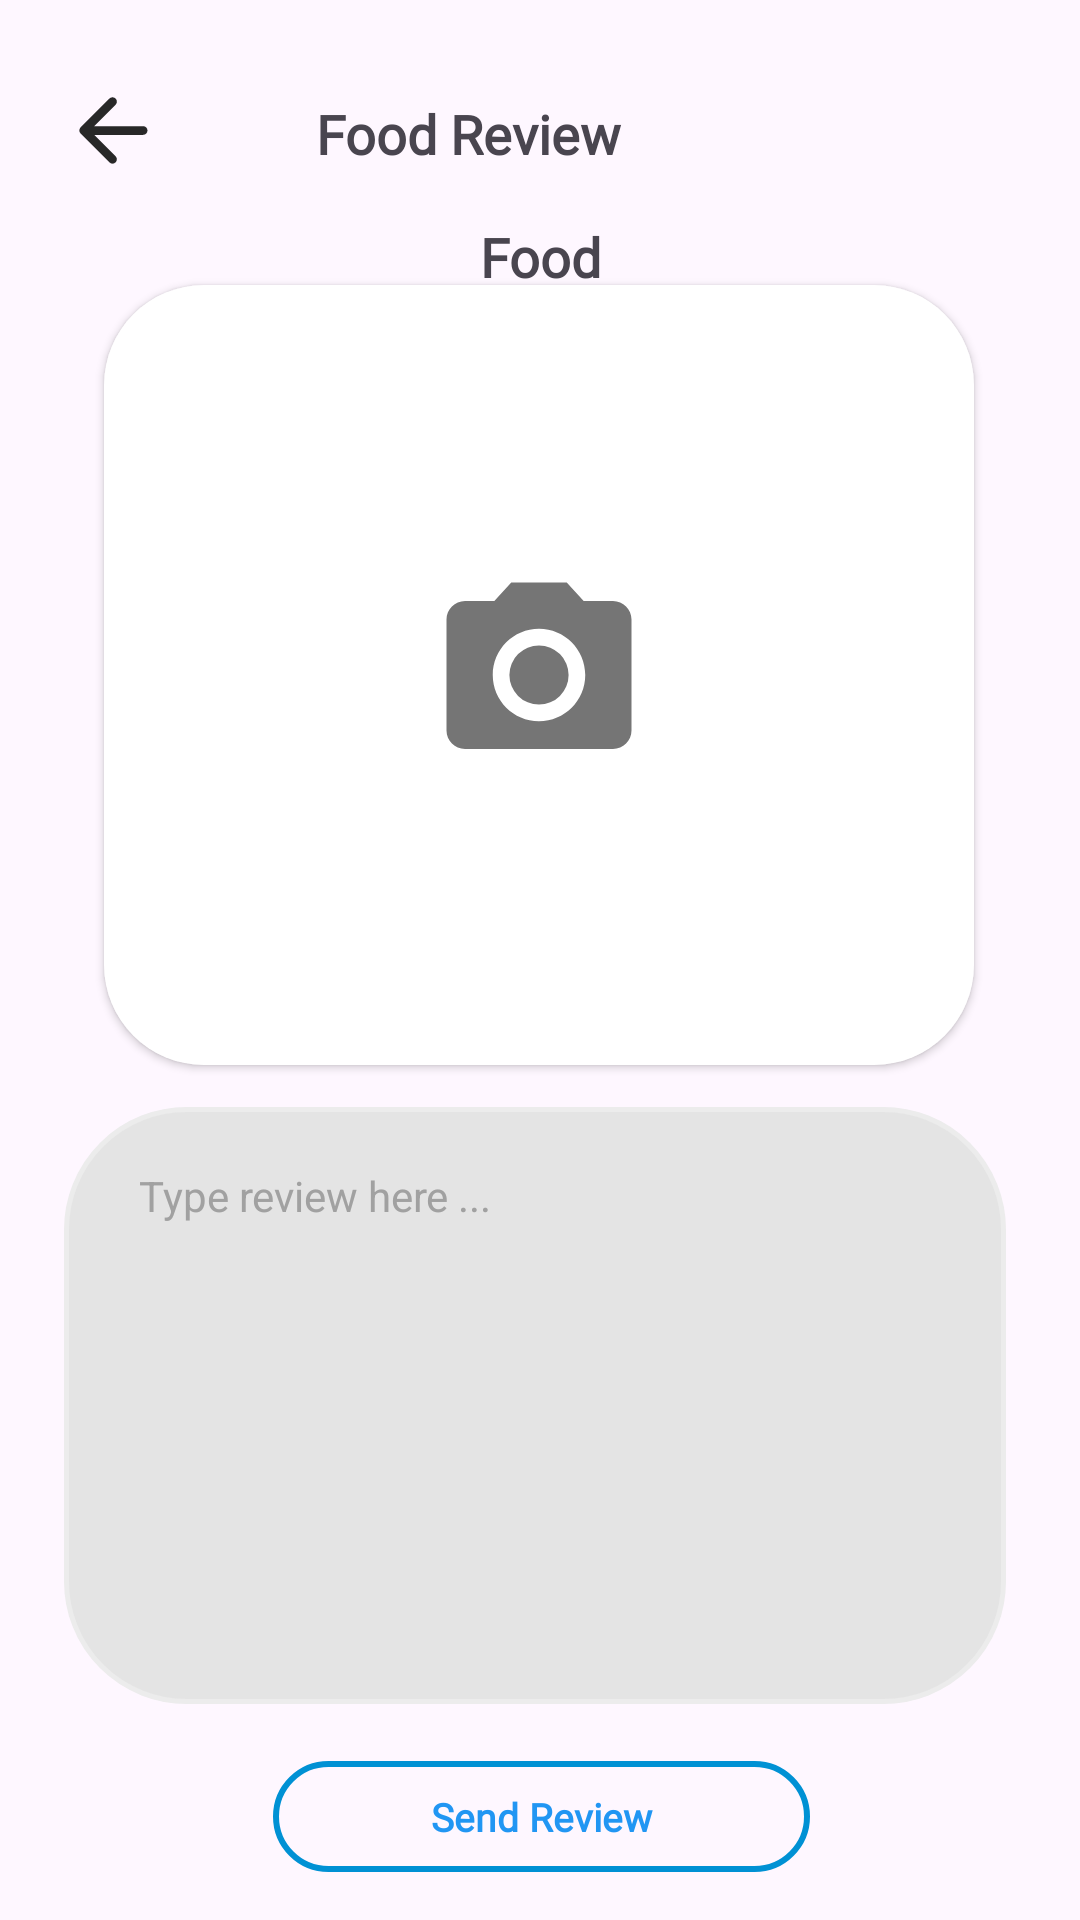

Point at icon controls on the screen. Image size 1080px×1920px, points as point (x, y).
backb: point (113, 130)
photo camera: point (539, 665)
